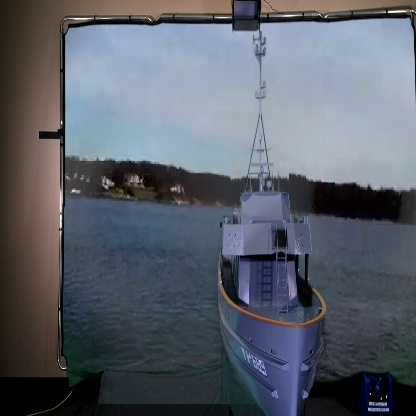YP689: (208, 48, 328, 416)
